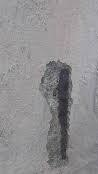Exposed reinforcement: (56, 68, 70, 160)
Spalling: (38, 58, 75, 170)
